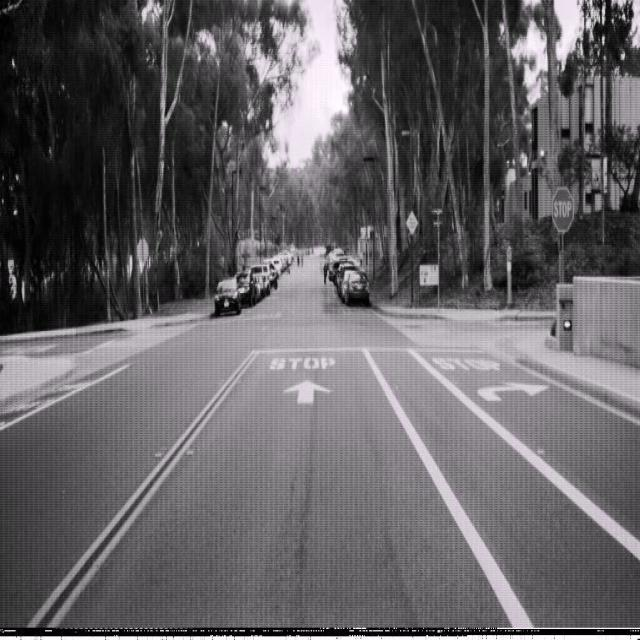stop_sign: (551, 185, 574, 233)
